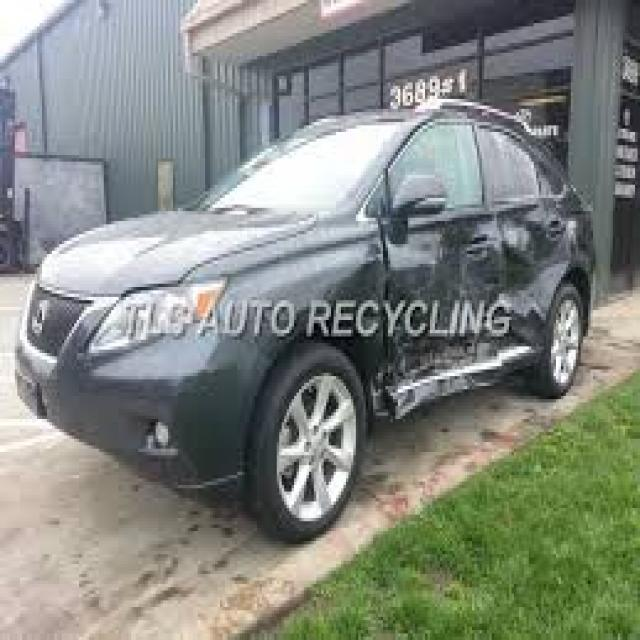moderate: (366, 194, 606, 475)
